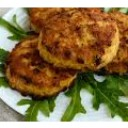cutlet: (41, 17, 119, 67), (6, 40, 78, 92)
